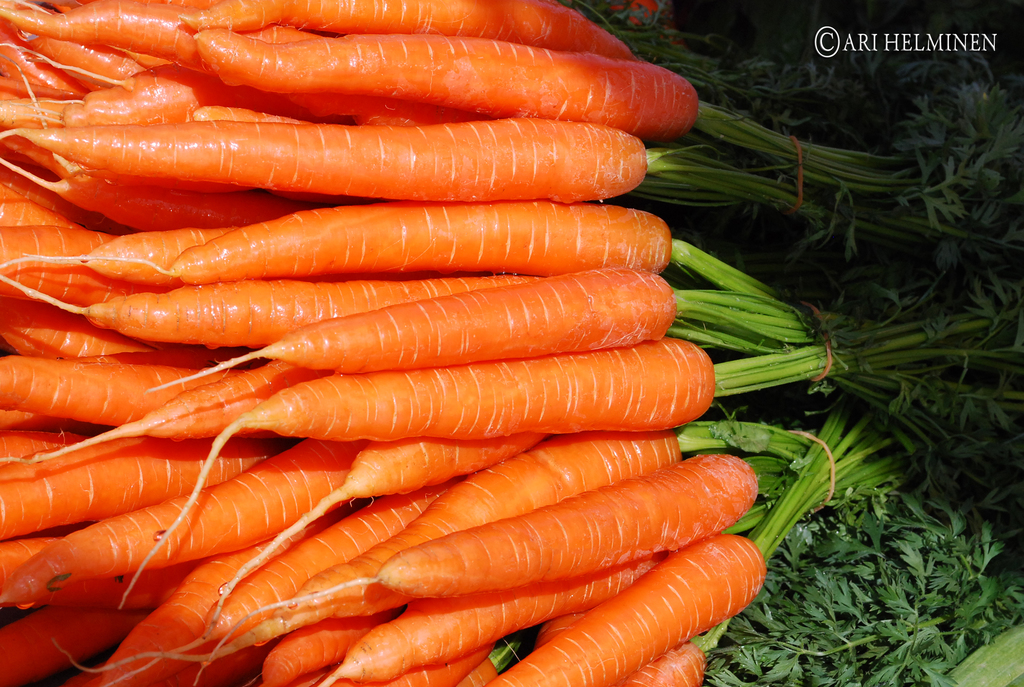Carrot: (0, 1, 1024, 687)
